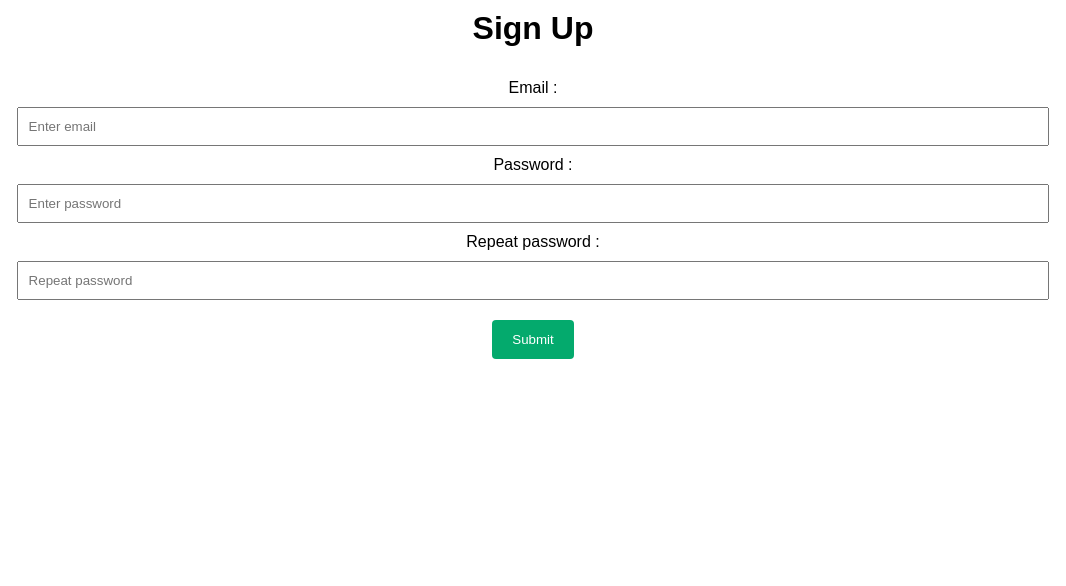
Test case: Signup › should display an error when password is too small
Step 1. Type "abc" into the password field with test id "password" → point(533, 203), box [17,184,1049,223]
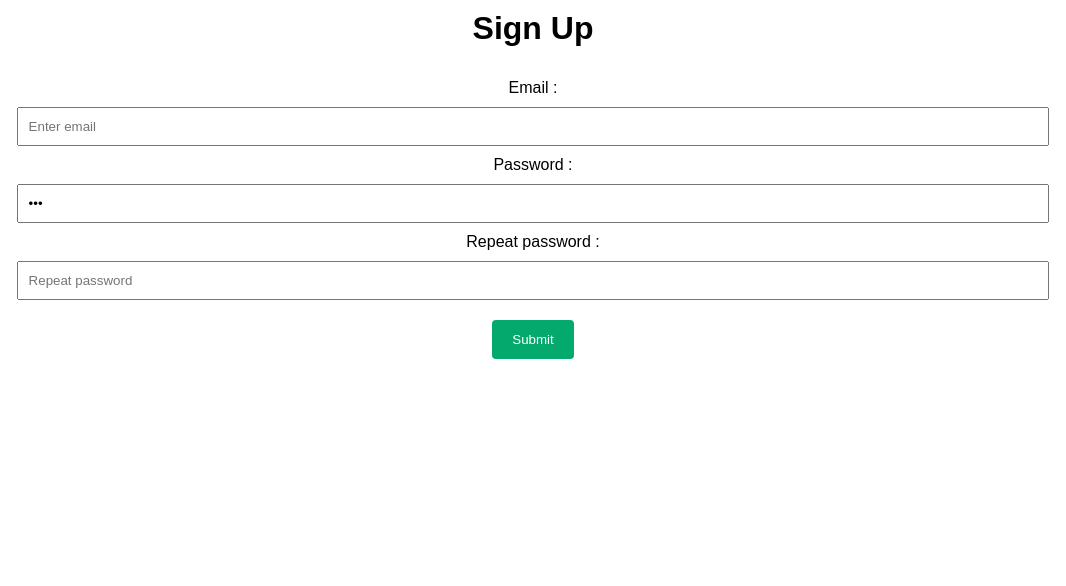
Step 2. Click the button with test id "submit" → point(533, 339), box [492,320,574,359]
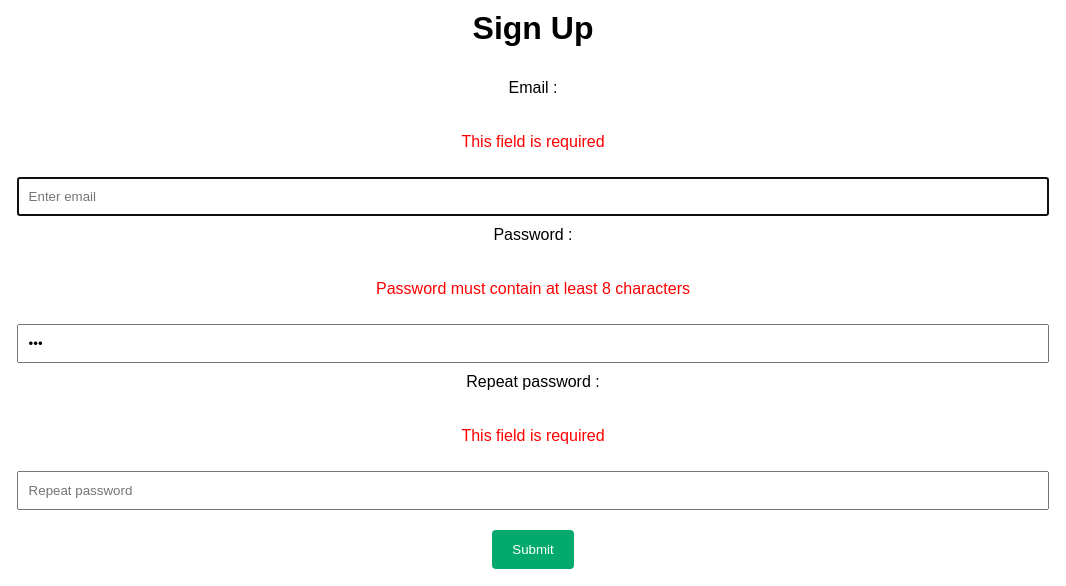
Check: the text "Password must contain at least 8 characters" is shown, box [376,280,690,297]
